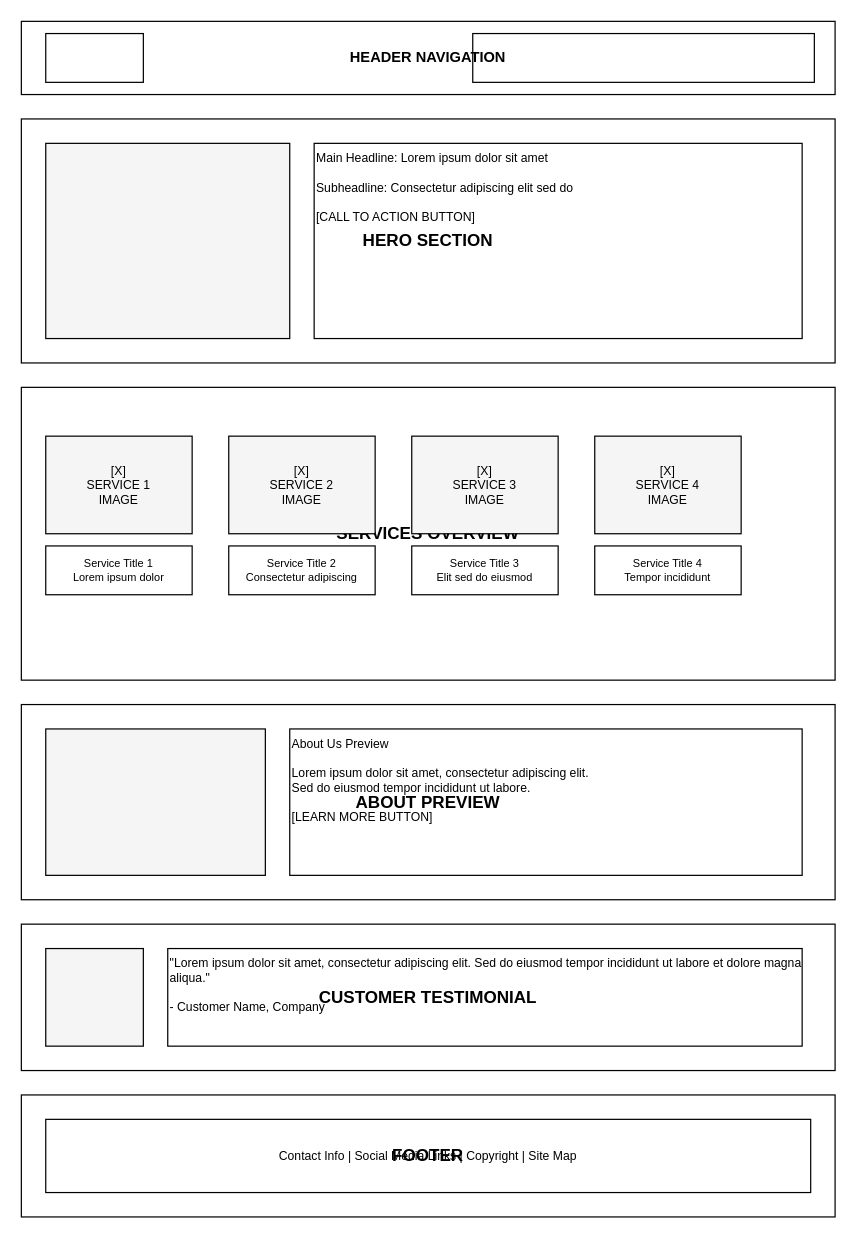
The diagram is 856 pixels wide and 1238 high, and some of its shapes have lost their labels. The shapes that lost their labels are listed below. From the top down, each one's centre as x and y in pixels, then its label:
the point at 94,57: LOGO
the point at 643,57: Home | About | Services | Gallery | Contact
the point at 167,240: [X] HERO IMAGE PLACEHOLDER
the point at 155,801: [X] COMPANY IMAGE
the point at 94,996: [X] CUSTOMER PHOTO
